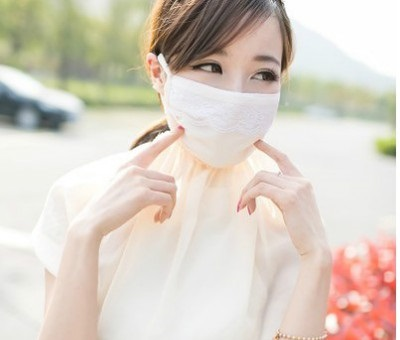face_mask: (162, 5, 282, 158)
